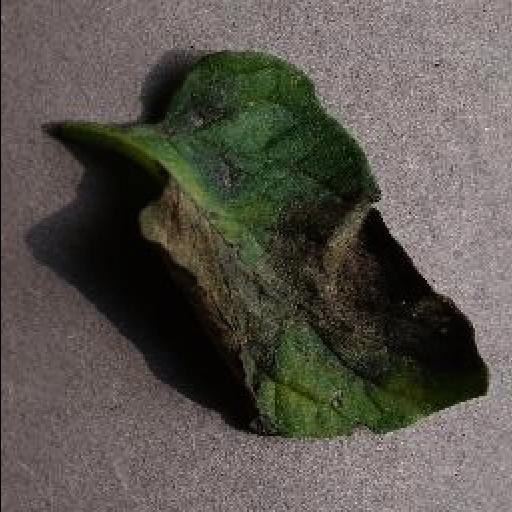disease_tomato: (132, 52, 492, 440)
